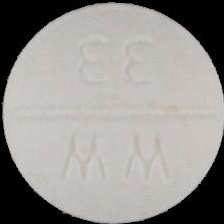0143-1333: (0, 0, 224, 224)
